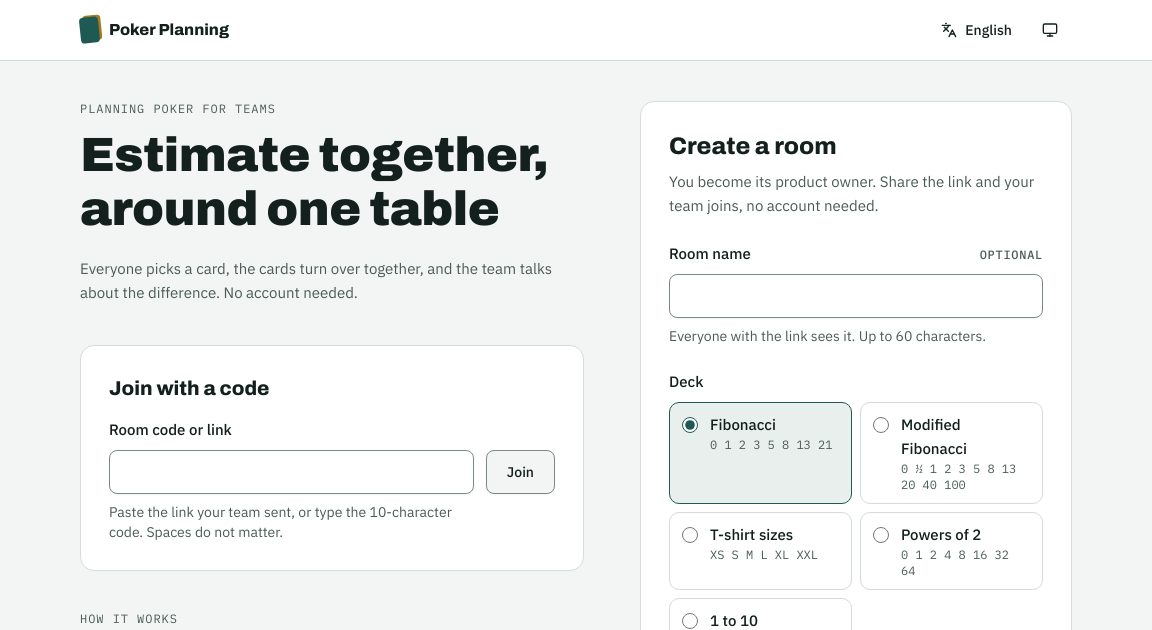
Test: app shell › switches the language from the header without remounting the page
Press Enter in the button with aria-label "Language: English", box [929,8,1024,52]
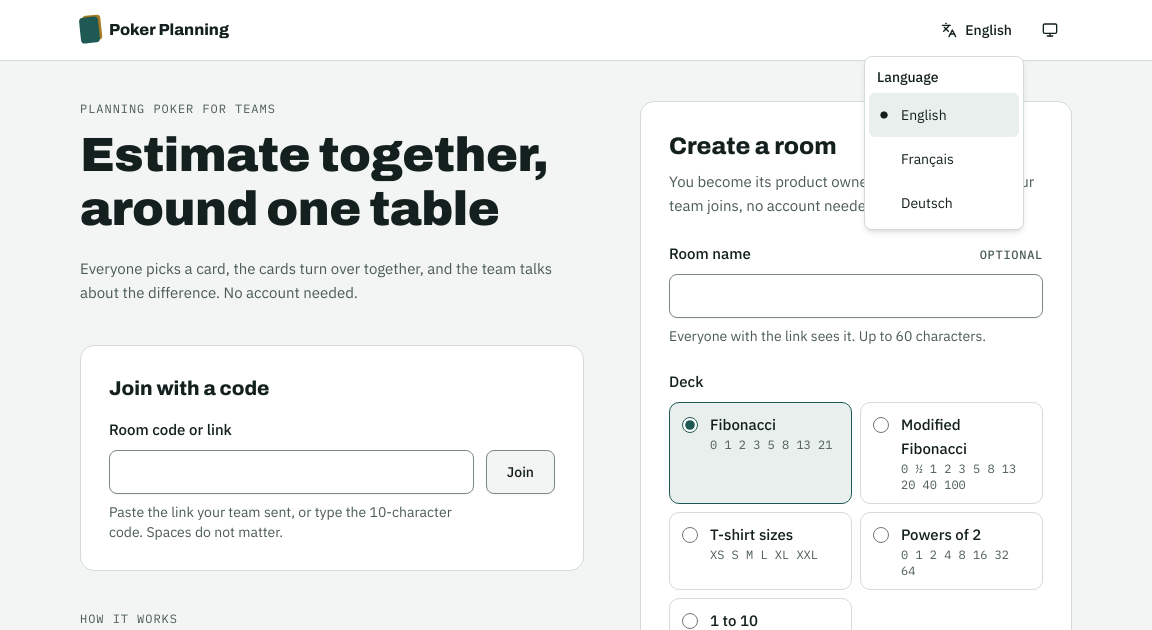
Click the menu item "Français" at (927, 159), box [901,150,954,168]
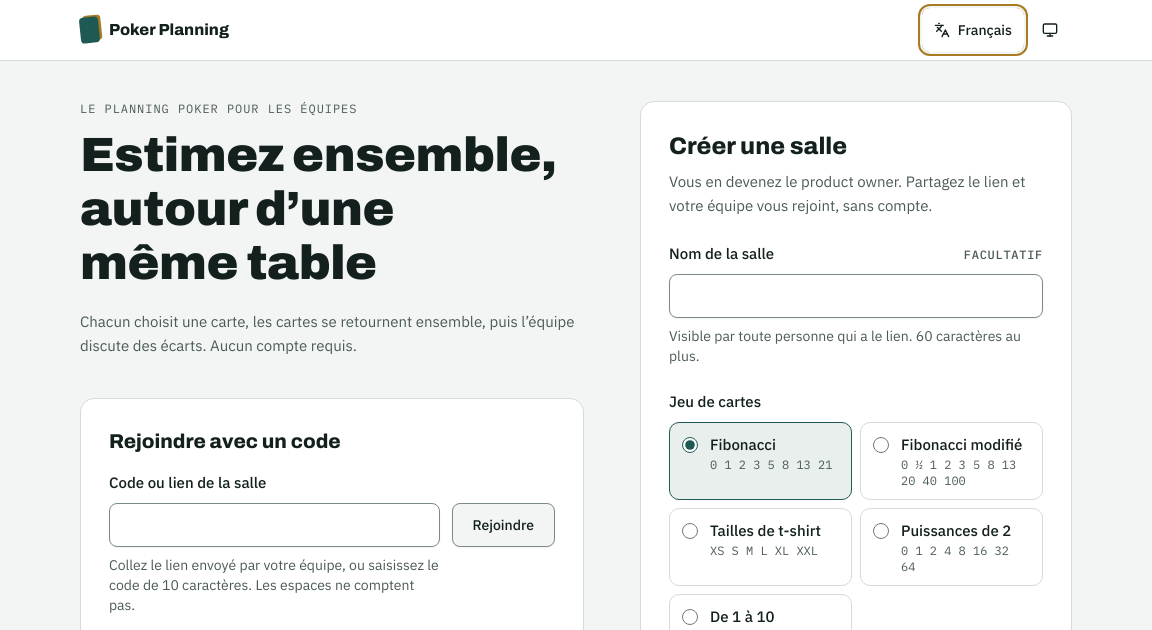
Expected: the heading "Estimez ensemble, autour d’une même table" is shown, [80,129,584,290]
